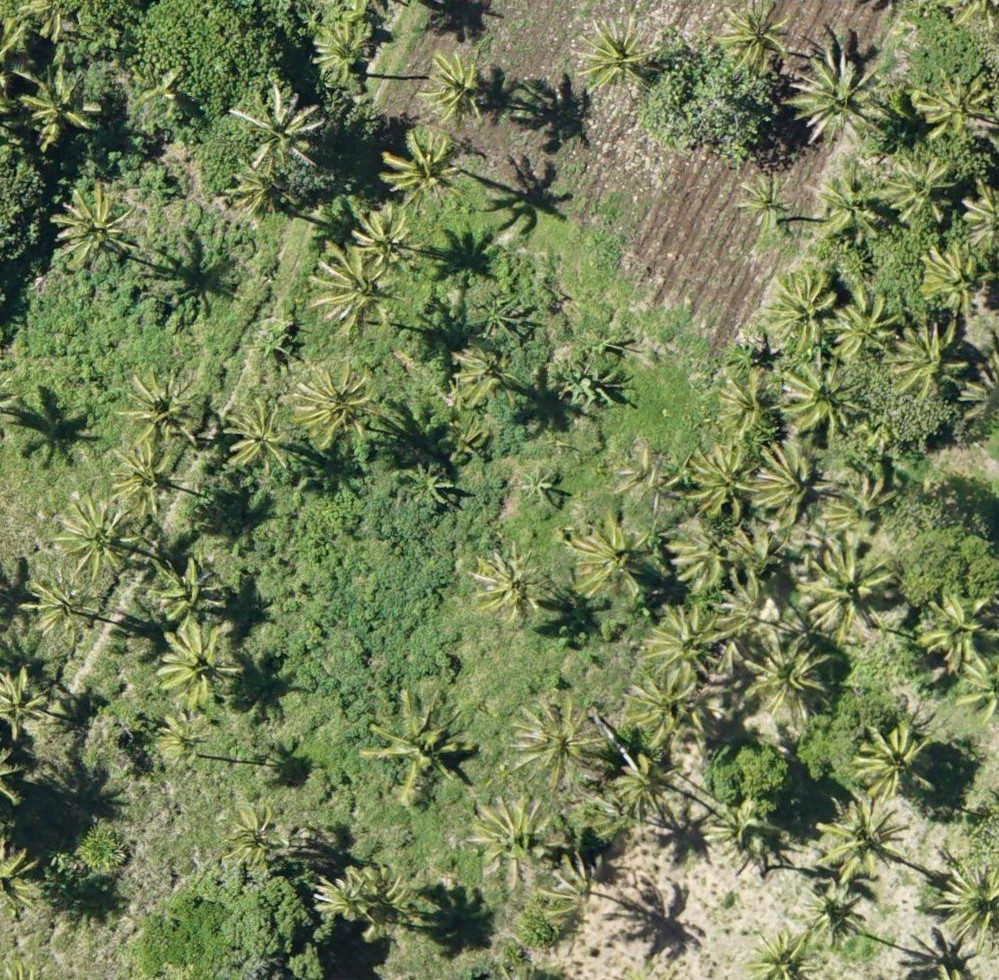Palm: (366, 690, 474, 798), (507, 692, 606, 789), (802, 539, 896, 639), (308, 241, 401, 336), (790, 55, 880, 138), (820, 797, 910, 879), (778, 355, 863, 439), (239, 85, 322, 170), (472, 798, 559, 879), (744, 636, 826, 720), (162, 626, 241, 709), (569, 514, 646, 598), (294, 365, 375, 444), (890, 325, 967, 407), (122, 369, 201, 448), (573, 18, 657, 91), (60, 496, 134, 578), (380, 130, 462, 203), (812, 169, 891, 244), (56, 186, 131, 264), (749, 436, 819, 519), (708, 794, 784, 870), (914, 71, 993, 144), (852, 723, 931, 795), (764, 272, 834, 353), (688, 440, 759, 519), (647, 602, 721, 677), (714, 4, 794, 73), (927, 588, 993, 671), (475, 548, 548, 622), (418, 51, 488, 126), (24, 570, 94, 645), (350, 202, 420, 275), (227, 399, 296, 473), (824, 466, 897, 534), (933, 864, 999, 938), (832, 295, 902, 364), (626, 674, 693, 746), (921, 244, 987, 314), (715, 362, 773, 440), (885, 153, 950, 221), (23, 70, 88, 137), (542, 854, 596, 932), (675, 524, 736, 593), (110, 448, 173, 514), (715, 569, 774, 639), (797, 880, 865, 940), (614, 752, 677, 811), (223, 805, 280, 870), (313, 869, 378, 926), (738, 176, 796, 239), (310, 18, 370, 78), (225, 166, 282, 227), (159, 562, 219, 618), (453, 347, 513, 402), (752, 934, 817, 980), (155, 709, 206, 765)
